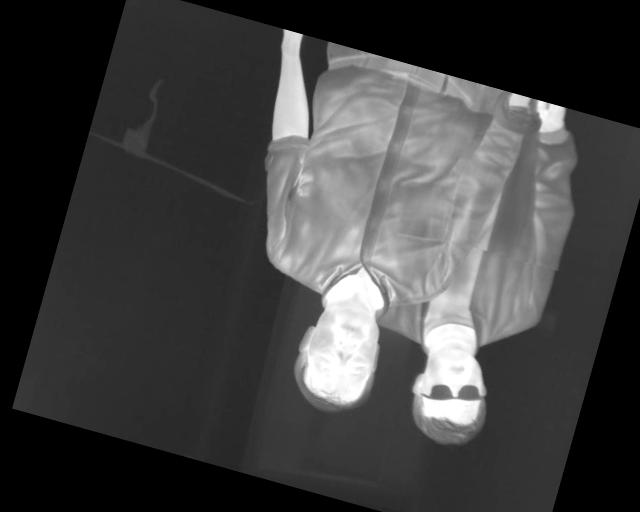face: (283, 292, 391, 422), (398, 337, 502, 455)
